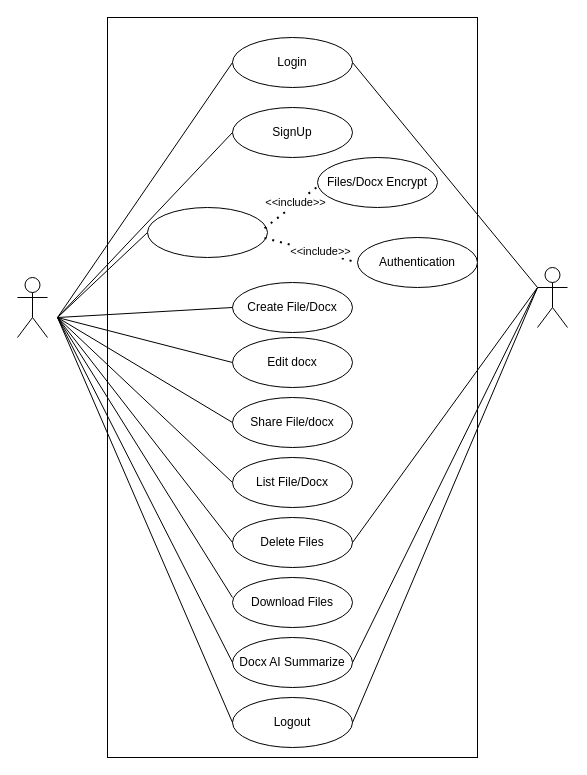
This 587x775 diagram has some shape labels left out. The centre of each missing label's shape, as x and y in pixels:
"Admin" belongs at [552,297].
"Upload File/Docx" belongs at [207,232].
"User" belongs at [32,307].
